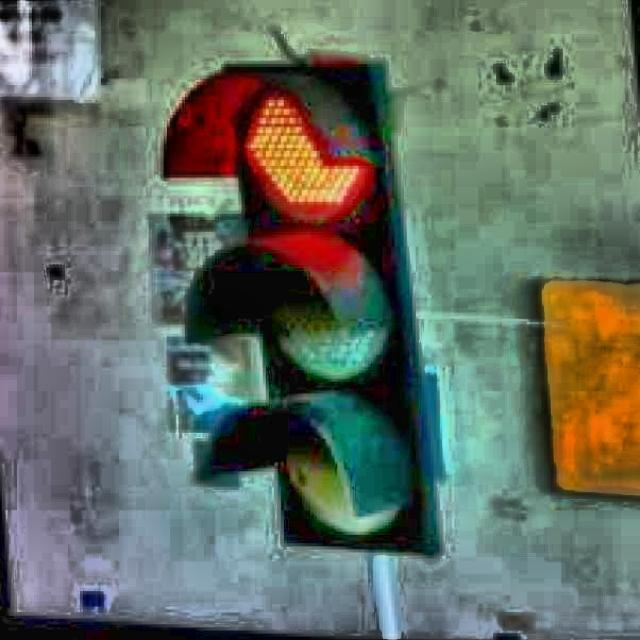red: (235, 60, 427, 549)
